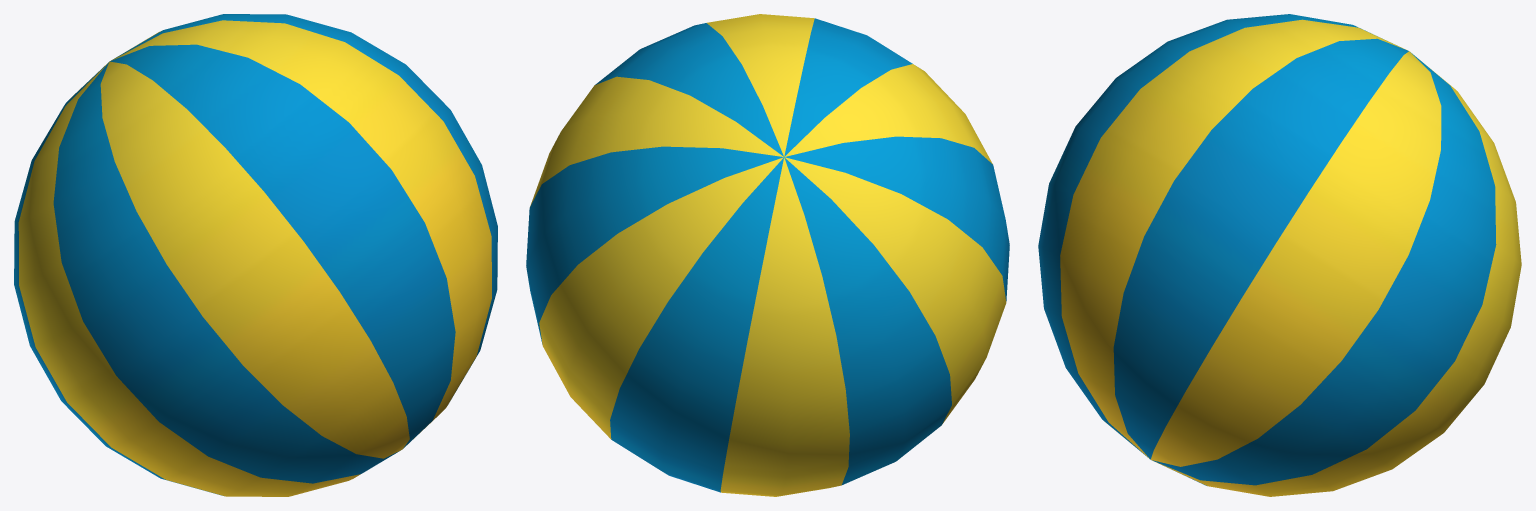
The model's file is Ball_01.glb.
3 renders of one model, left to right at view 1: azimuth 30°, elevation 25°; view 2: azimuth 150°, elevation 25°; view 3: azimuth 270°, elevation 25°, orthographic.
Visible parts, largest first — view 1: Ball_01; view 2: Ball_01; view 3: Ball_01.
Boxes of the visible parts, <box> form: Ball_01: <box>14,14,497,496</box>; Ball_01: <box>526,14,1009,496</box>; Ball_01: <box>1038,14,1521,496</box>.
Size of the model in its own units: 0.3202 by 0.3222 by 0.3226.
Materials: 1 (1 with a texture image).
